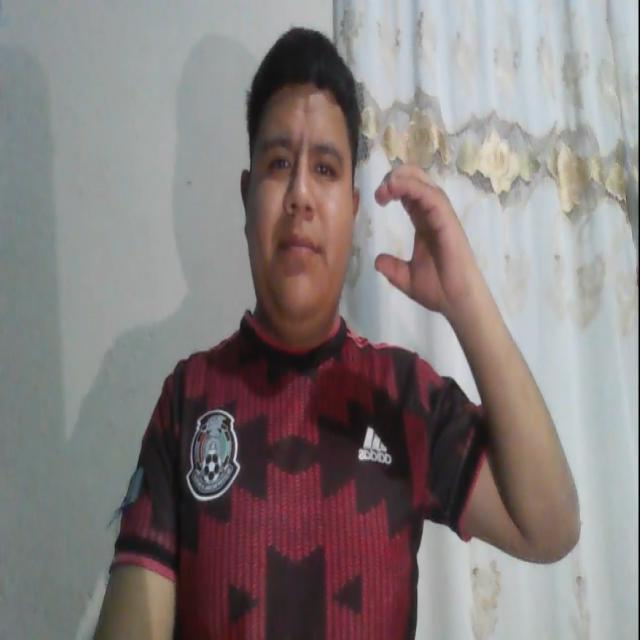C: (364, 139, 477, 333)
